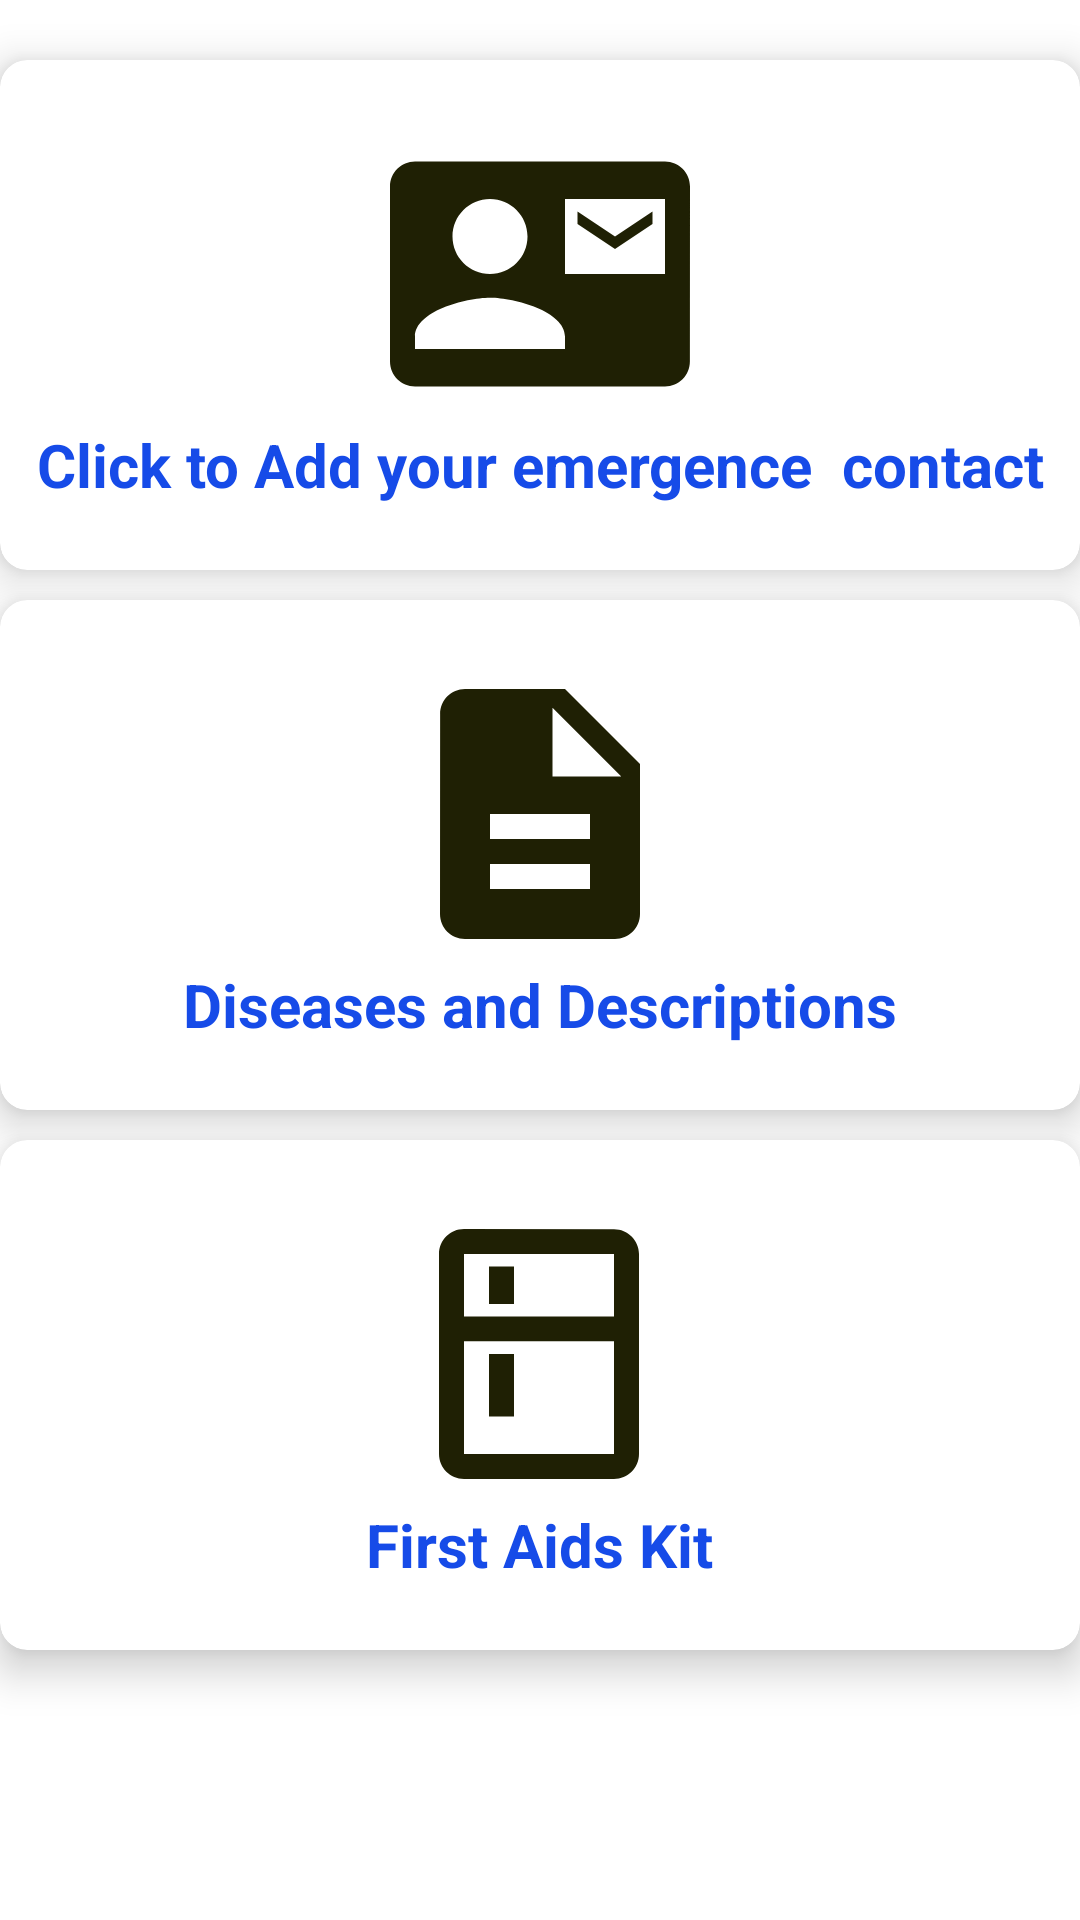

Icons on this 1080×1920 Android screen, each with the point to tap as (x,y):
contact mail: (540,274)
kitchen: (539,1354)
